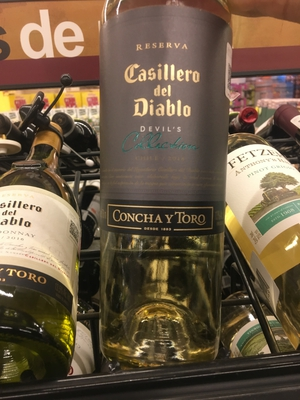casillero del diablo devils collection verde: (91, 10, 243, 351)
